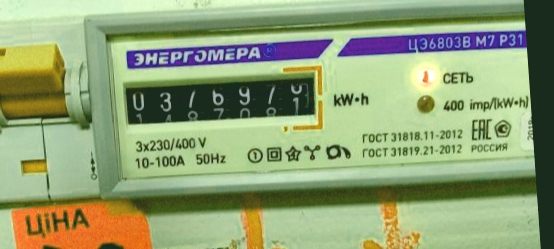0: (130, 88, 146, 111)
1: (289, 94, 302, 115)
3: (157, 89, 174, 112)
6: (209, 81, 226, 105)
7: (182, 84, 199, 108), (263, 81, 279, 105)
9: (235, 82, 252, 106)
screen: (113, 58, 329, 146)
